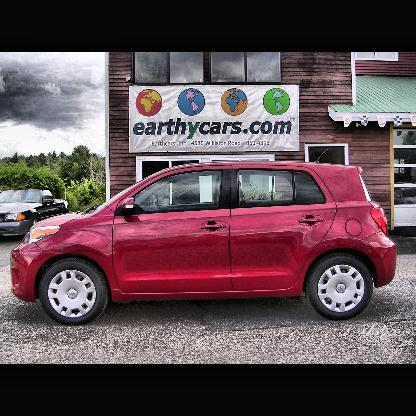Scion xD Hatchback 2012: (11, 161, 398, 328)
